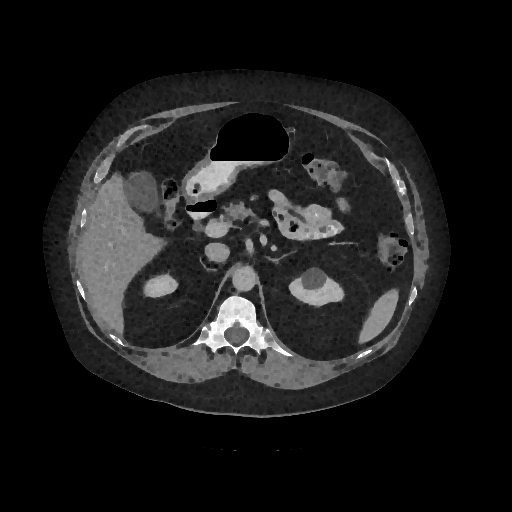Lesion: (298, 266, 329, 295)
